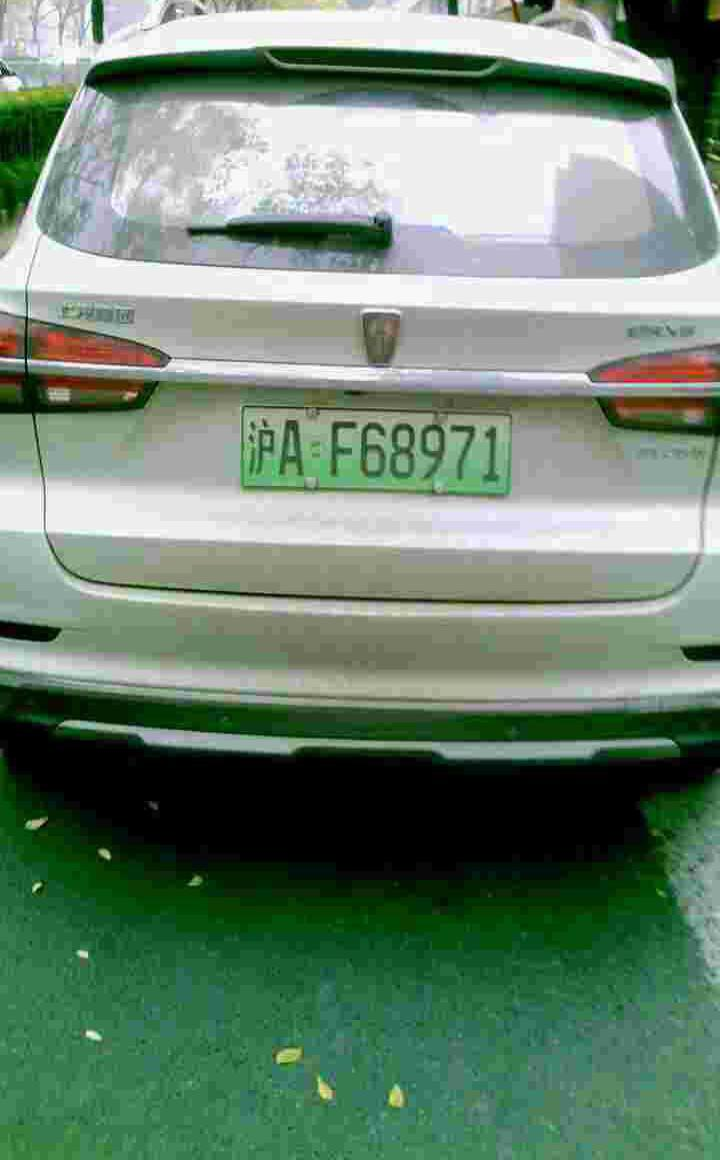car: (229, 402, 531, 508)
